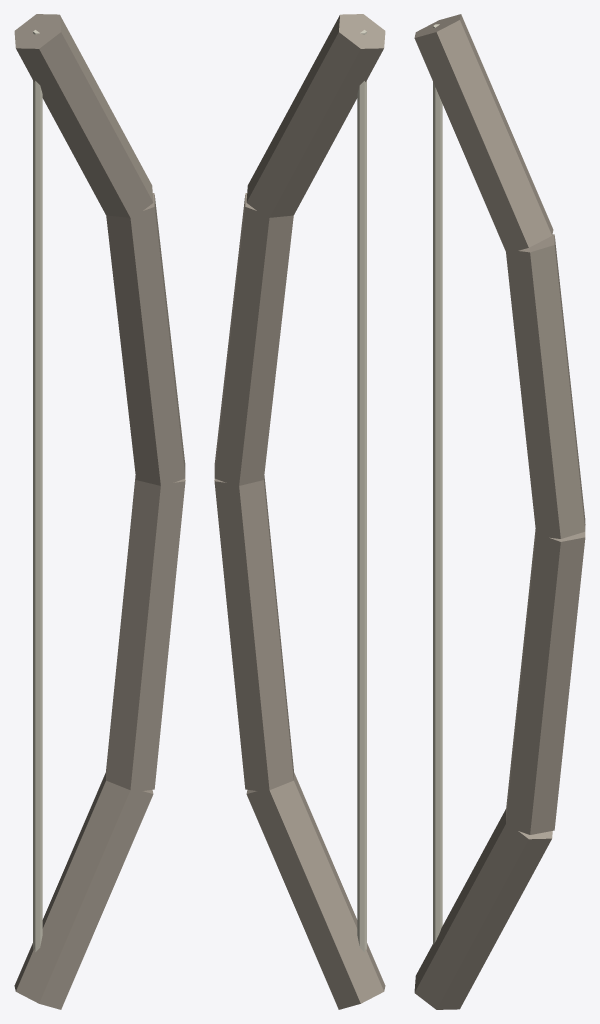
Rendered from SM_NPC_Prop_00_Bow.glb.
3 renders of one model, left to right at view 1: azimuth 30°, elevation 25°; view 2: azimuth 150°, elevation 25°; view 3: azimuth 330°, elevation 25°, orthographic.
Parts seen in each view (by area): view 1: SM_NPC_Prop_00_Bow; view 2: SM_NPC_Prop_00_Bow; view 3: SM_NPC_Prop_00_Bow.
Part boxes in pixels (x1=…): SM_NPC_Prop_00_Bow: x1=14, y1=14, x2=185, y2=1009; SM_NPC_Prop_00_Bow: x1=214, y1=14, x2=385, y2=1009; SM_NPC_Prop_00_Bow: x1=414, y1=14, x2=585, y2=1009.
Size of the model in its own units: 0.1653 by 0.9215 by 0.0416.
